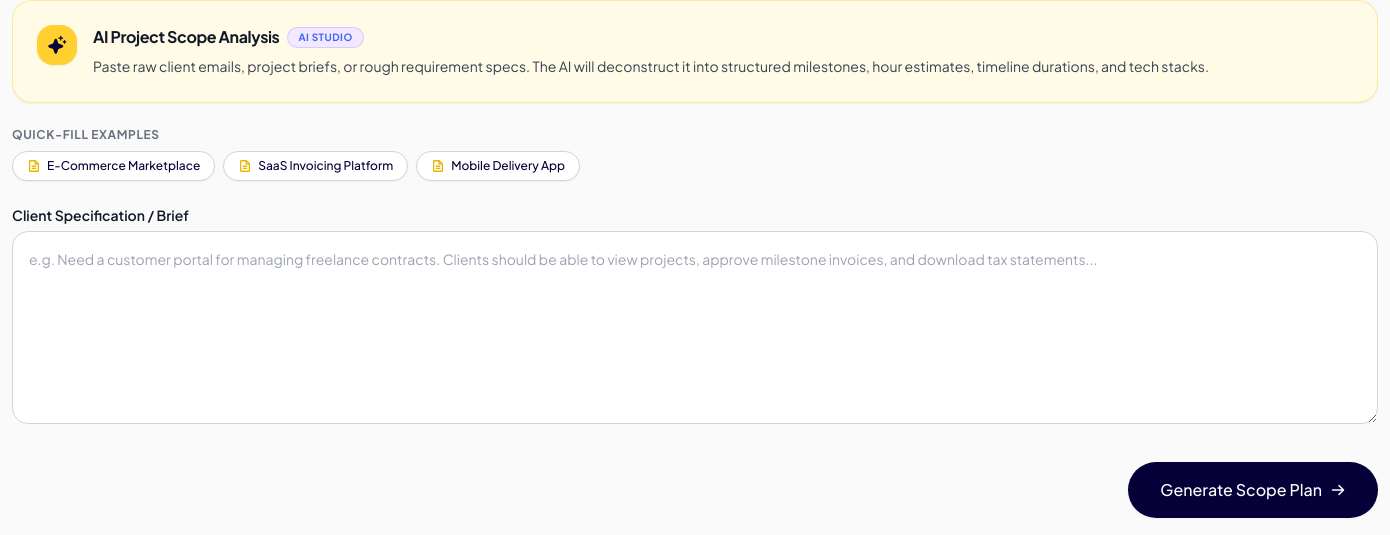
Scenario: ScopeGeneratorForm › populates textarea when a quick-fill example is clicked
Click the button "E-Commerce Marketplace" at (114, 166), box [12,151,215,181]
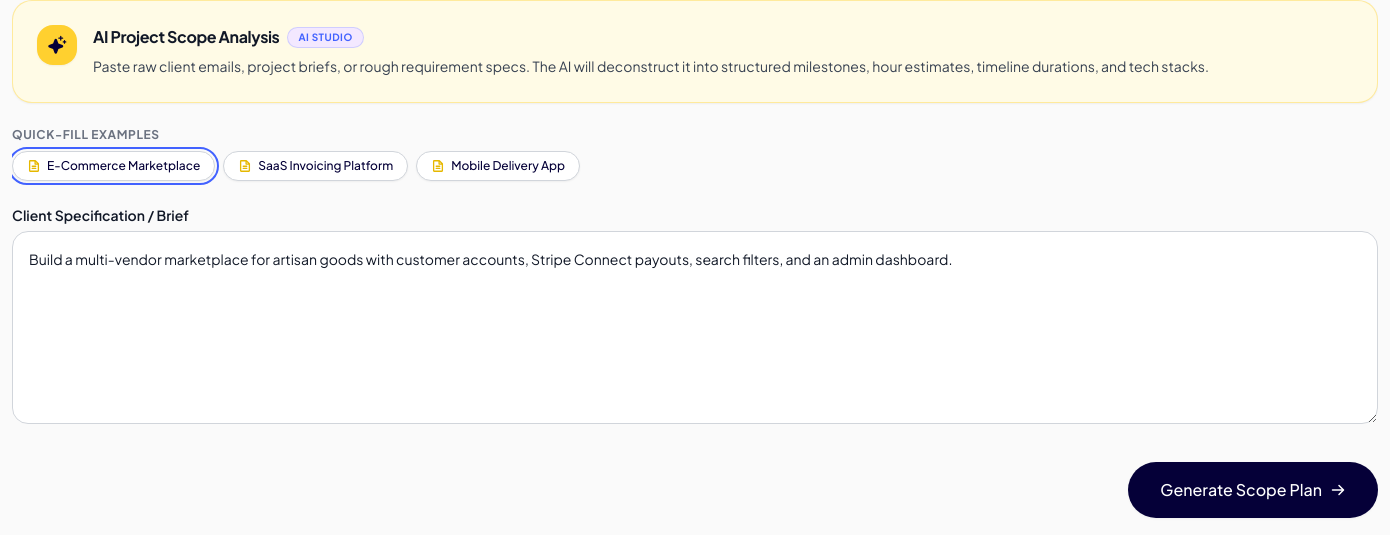
Check: the text box holds "Build a multi-vendor marketplace for artisan goods with customer accounts, Stripe Connect payouts, search filters, and an admin dashboard.", box [12,231,1378,424]
